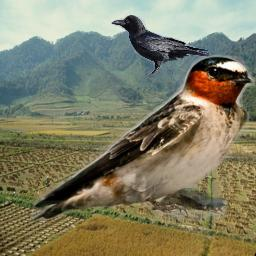Crow: (111, 15, 211, 77)
Swallow: (29, 53, 255, 222)
